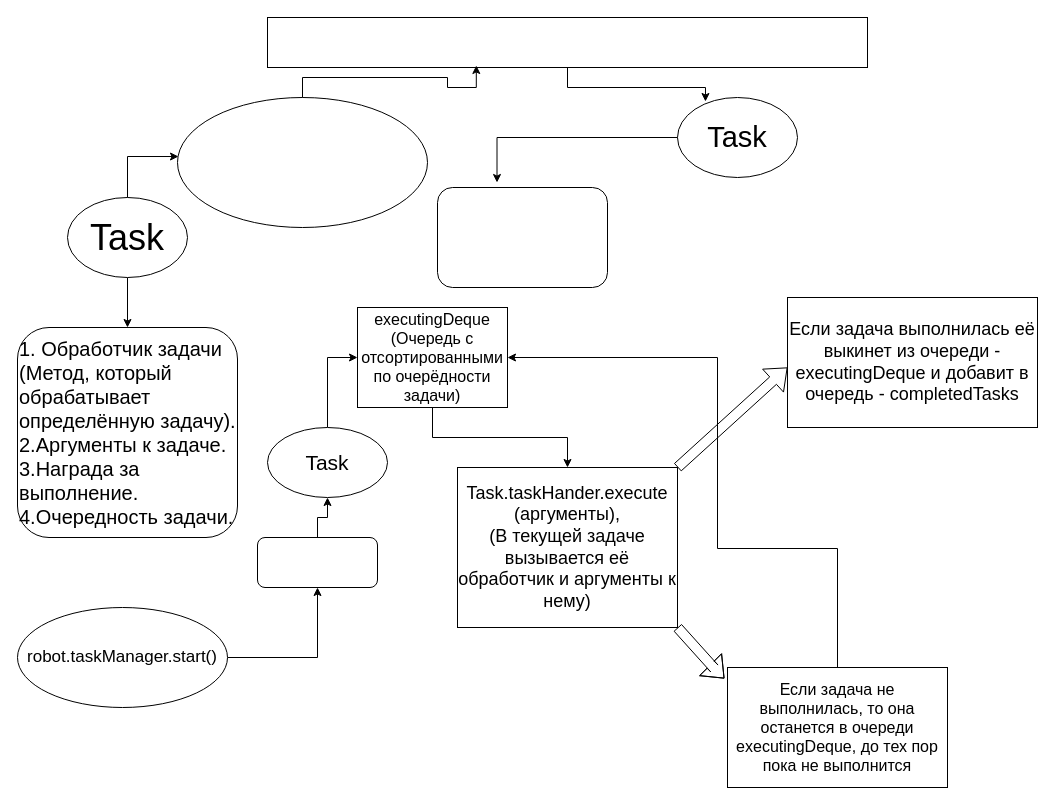
Image size: 1055x805. Some labels were removed from this diagram. Here are the shapes that lost their labels. From the top down, the centre of each, then its label:
pixel 567 42: TaskManager
pixel 302 162: robot.taskmanager.addTask (Task)
pixel 522 237: TaskDeque (Очередь содержащая задачи на выполнения)
pixel 317 562: TaskDeque
